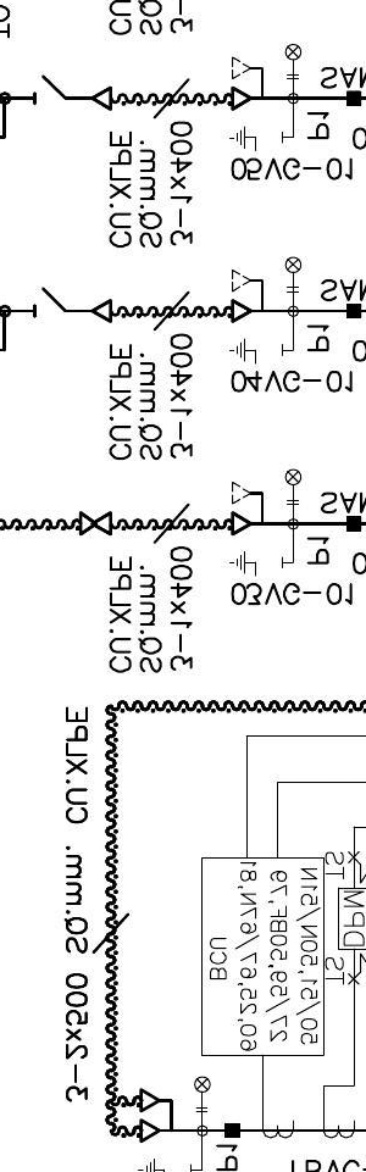22_gs: (229, 550, 285, 578), (230, 337, 285, 365), (229, 126, 285, 153)
22_ll: (284, 468, 303, 506), (284, 43, 303, 81), (193, 1075, 211, 1113), (285, 256, 303, 294)
terminator_double: (139, 1087, 174, 1144)
terminator_single: (91, 297, 114, 325), (91, 85, 114, 112)
terminator_splicing_kits: (79, 511, 113, 537)
terminator_w_future: (230, 479, 266, 537), (230, 267, 266, 324), (230, 56, 266, 113)
